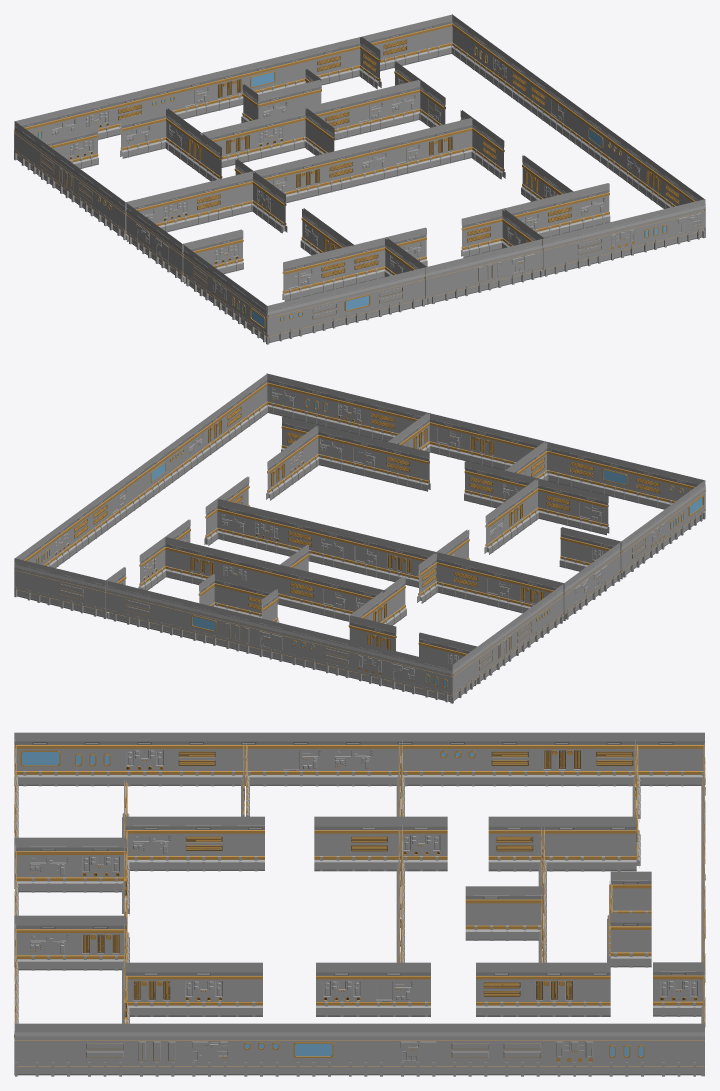
Rendered from Room.fbx.
The picture shows the model from 3 angles, top to bottom: view 1: azimuth 30°, elevation 25°; view 2: azimuth 150°, elevation 25°; view 3: azimuth 270°, elevation 25°; orthographic projection. The views are drawn at different scales.
Parts seen in each view (by area): view 1: Wall_4.006, Wall_1.008, Wall_2.010, Wall_5.020, Wall_1.009, Wall_2.009, Wall_5.021, Wall_3.012, Wall_5.029, Wall_5.028, Wall_4.015, Wall_1.016 (+81 smaller); view 2: Wall_1.003, Wall_5.009, Wall_4.009, Wall_1.006, Wall_5.027, Wall_1.015, Window_Wall_SideB.003, Wall_1.013, Wall_5.030, Wall_3.010, Wall_5.019, Wall_5.023 (+82 smaller); view 3: Wall_1.012, Wall_4.023, Wall_4.021, Wall_1.002, ThreeWindows_Wall_SideB.002, Wall_5.004, Wall_5.005, Wall_2.002, Wall_Empty.007, Wall_4.002, Wall_Empty.042, Wall_5.017 (+42 smaller).
Boxes of the visible parts, <box> form: Wall_4.006: <box>121,112,155,158</box>; Wall_1.008: <box>391,130,425,177</box>; Wall_2.010: <box>424,122,458,169</box>; Wall_5.020: <box>192,179,226,225</box>; Wall_1.009: <box>354,88,388,135</box>; Wall_2.009: <box>291,154,325,201</box>; Wall_5.021: <box>324,146,358,193</box>; Wall_3.012: <box>254,113,288,159</box>; Wall_5.029: <box>543,191,577,238</box>; Wall_5.028: <box>462,211,496,257</box>; Wall_4.015: <box>576,183,610,230</box>; Wall_1.016: <box>283,255,317,301</box>; Wall_1.003: <box>431,414,465,460</box>; Wall_5.009: <box>630,462,664,509</box>; Wall_4.009: <box>315,524,349,570</box>; Wall_1.006: <box>481,564,515,611</box>; Wall_5.027: <box>380,441,414,487</box>; Wall_1.015: <box>573,488,607,535</box>; Window_Wall_SideB.003: <box>597,454,631,501</box>; Wall_1.013: <box>347,433,381,479</box>; Wall_5.030: <box>540,480,574,526</box>; Wall_3.010: <box>249,508,283,554</box>; Wall_5.019: <box>448,556,482,603</box>; Wall_5.023: <box>284,567,318,613</box>; Wall_1.012: <box>368,963,430,1016</box>; Wall_4.023: <box>16,839,74,892</box>; Wall_4.021: <box>16,917,74,970</box>; Wall_1.002: <box>275,732,327,786</box>; ThreeWindows_Wall_SideB.002: <box>66,732,118,786</box>; Wall_5.004: <box>171,732,223,786</box>; Wall_5.005: <box>484,732,536,786</box>; Wall_2.002: <box>536,732,588,786</box>; Wall_Empty.007: <box>640,732,692,786</box>; Wall_4.002: <box>327,732,379,786</box>; Wall_Empty.042: <box>465,887,517,940</box>; Wall_5.017: <box>343,818,395,871</box>.
Size of the model in its own units: 92.26 by 7.7 by 92.18.
